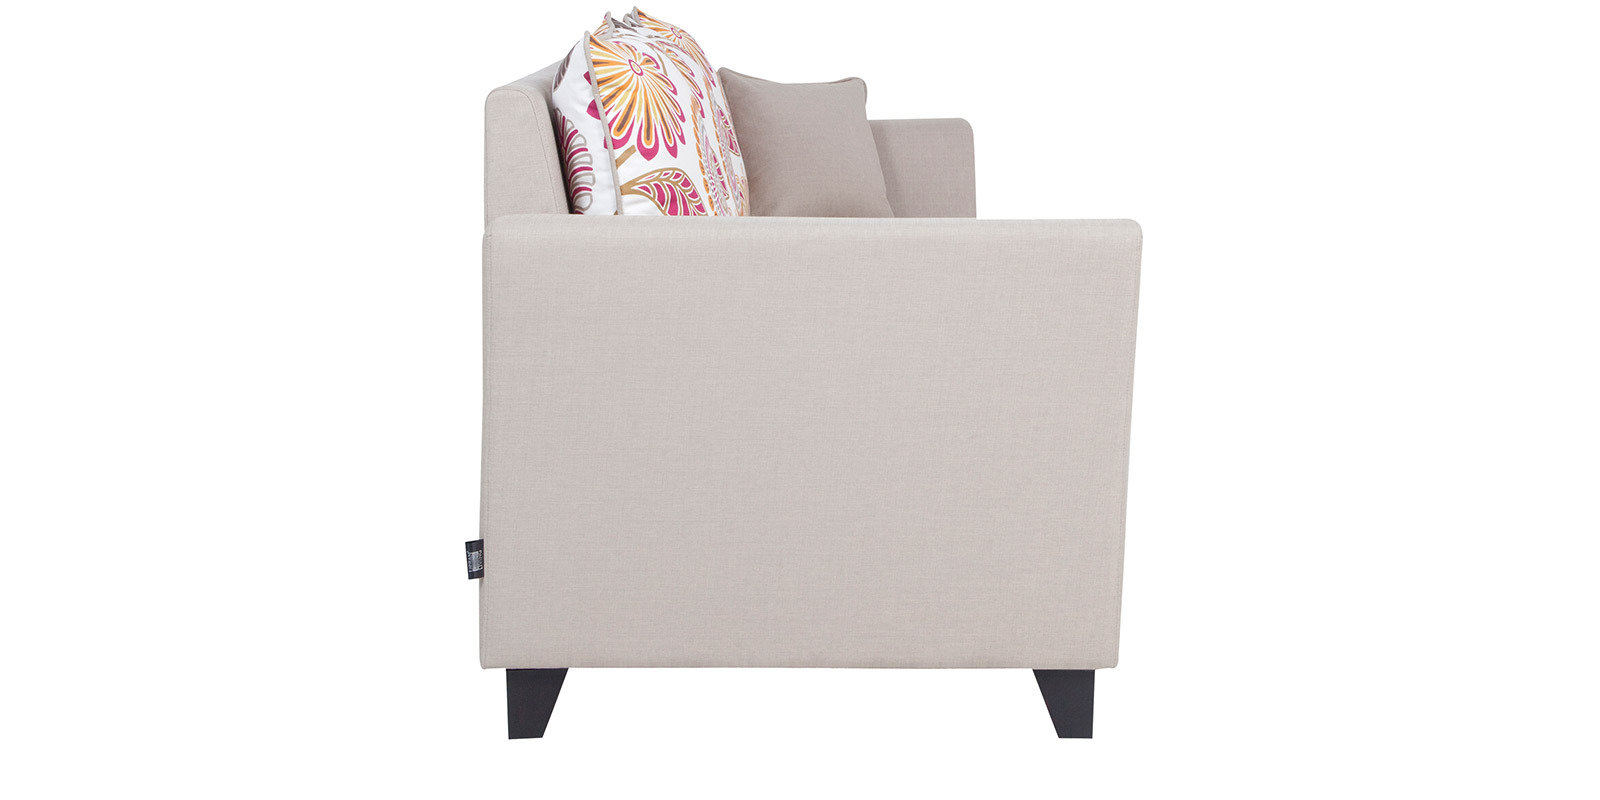Mumbai Glitz Three Seater Sofa in Beige Colour by Urban Living: (477, 5, 1143, 737)
